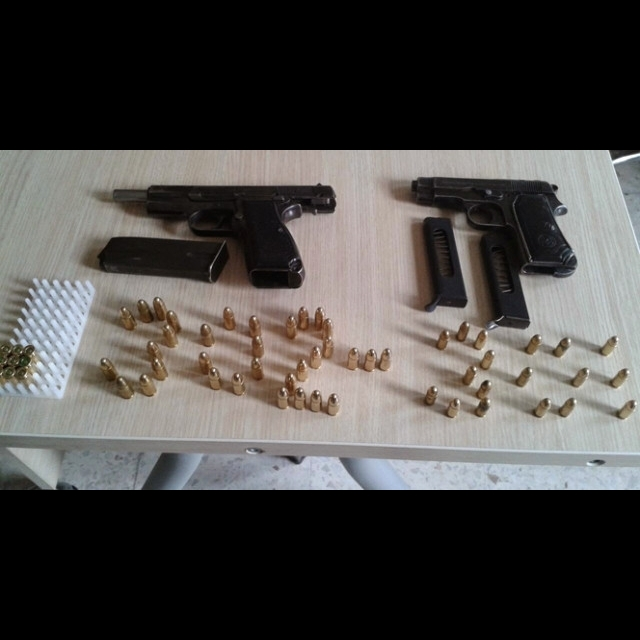SILAH: (385, 165, 598, 327), (98, 171, 345, 292)
